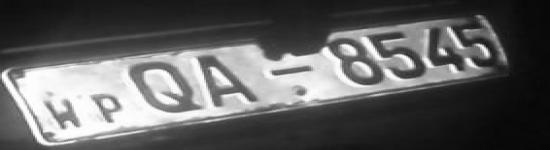-: (266, 62, 318, 80)
4: (408, 21, 475, 84)
5: (363, 26, 436, 83), (451, 17, 510, 68)
8: (315, 33, 395, 92)
A: (194, 53, 262, 106)
P: (89, 92, 126, 124)
Q: (117, 59, 203, 115)
W: (40, 96, 86, 132)
